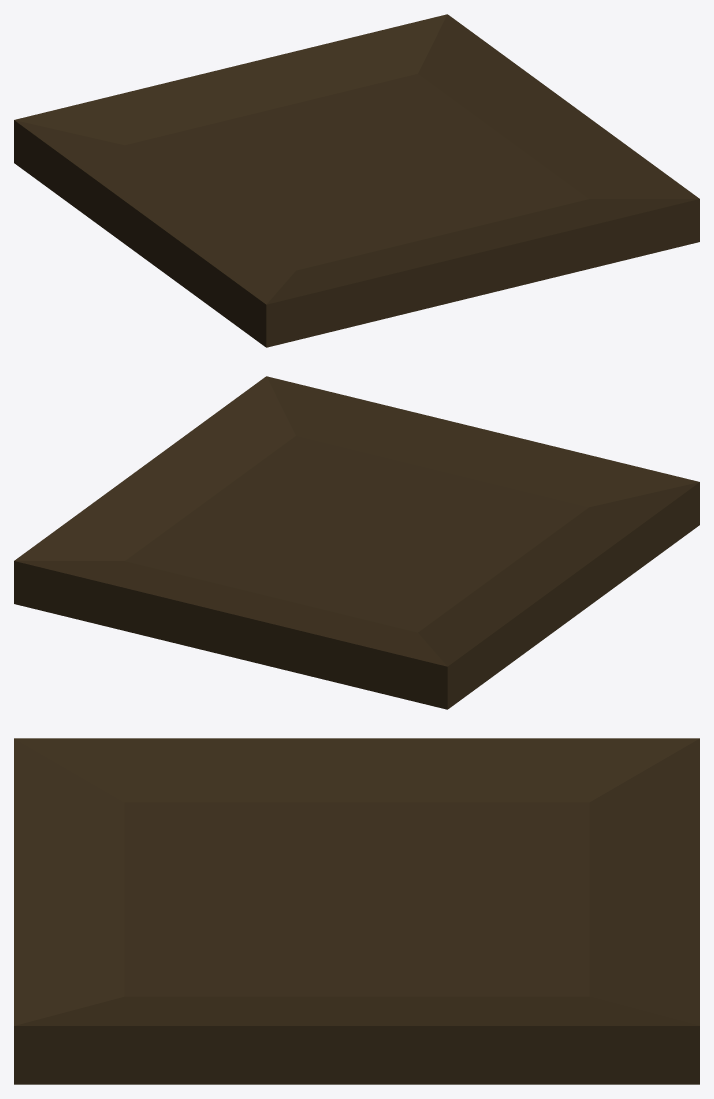
File: Itr_Chair3_Seat_02.FBX
The picture shows the model from 3 angles, top to bottom: view 1: azimuth 30°, elevation 25°; view 2: azimuth 150°, elevation 25°; view 3: azimuth 270°, elevation 25°; orthographic projection. The views are drawn at different scales.
Visible parts, largest first — view 1: Itr_Chair3_Seat_02; view 2: Itr_Chair3_Seat_02; view 3: Itr_Chair3_Seat_02.
Part boxes in pixels (x1,y1,x2,y2): Itr_Chair3_Seat_02: (14,14,699,347); Itr_Chair3_Seat_02: (14,376,699,709); Itr_Chair3_Seat_02: (14,738,699,1084).
Size of the model in its own units: 15.84 by 1.95 by 15.97.
